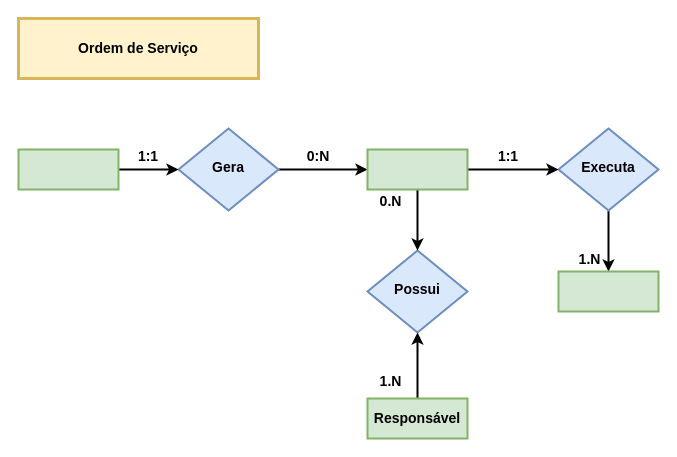
Some shapes in this 677 by 457 pixel diagram are drawn without their labels. Here are the shapes that lost their labels. From the top down, the centre of each, then its label:
(x=68, y=169): Cliente
(x=417, y=169): Pedido
(x=608, y=291): OS
